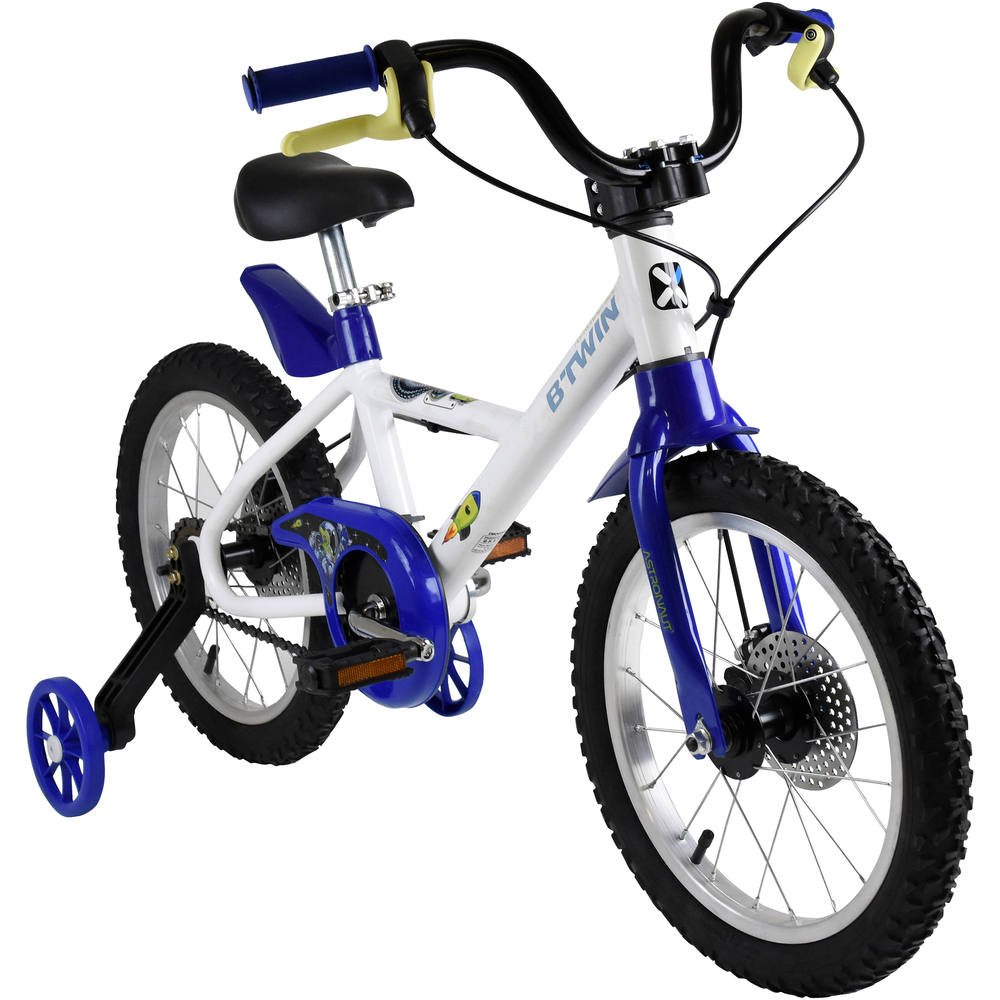RoadBike: (3, 6, 958, 991)
